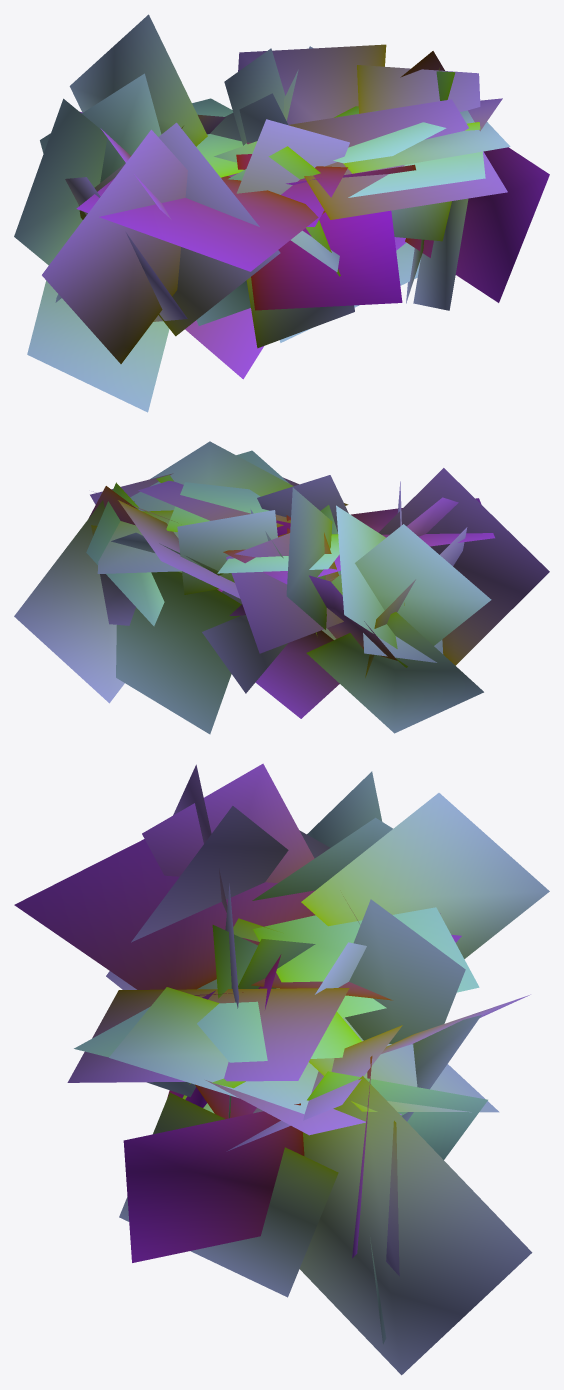
File: tree_planter_box_lod1.glb
3 views of the same model, one above another, from view 1: azimuth 30°, elevation 25°; view 2: azimuth 150°, elevation 25°; view 3: azimuth 270°, elevation 25° (orthographic). The views are drawn at different scales.
Parts seen in each view (by area): view 1: tree_planter_box_lod1; view 2: tree_planter_box_lod1; view 3: tree_planter_box_lod1.
Boxes of the visible parts, <box> form: tree_planter_box_lod1: <box>14,14,549,412</box>; tree_planter_box_lod1: <box>14,441,549,734</box>; tree_planter_box_lod1: <box>14,763,549,1375</box>.
Bounding box in the file's own units: 2.27 × 1.41 × 1.55.
